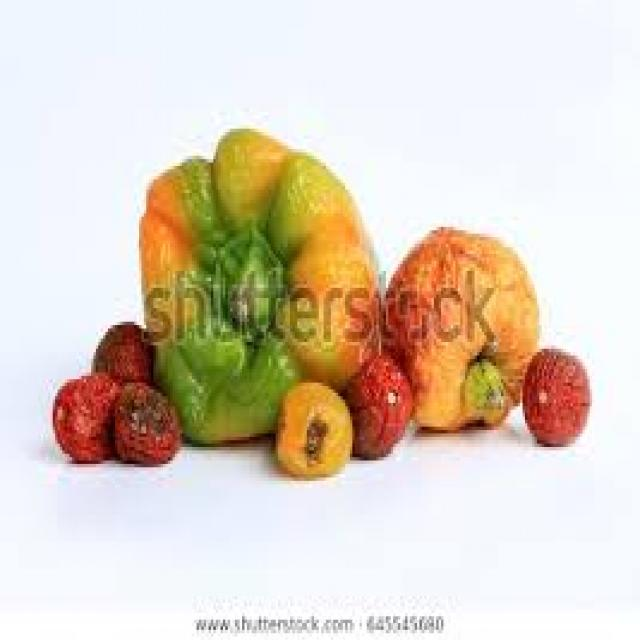organic waste: (134, 125, 381, 447), (381, 223, 537, 437), (273, 376, 348, 471), (348, 349, 408, 460), (523, 346, 587, 444), (112, 380, 180, 468), (50, 372, 115, 464), (88, 318, 148, 396)
